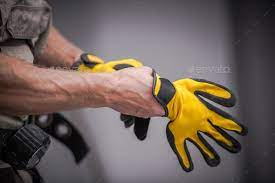gloves: (151, 69, 240, 164)
